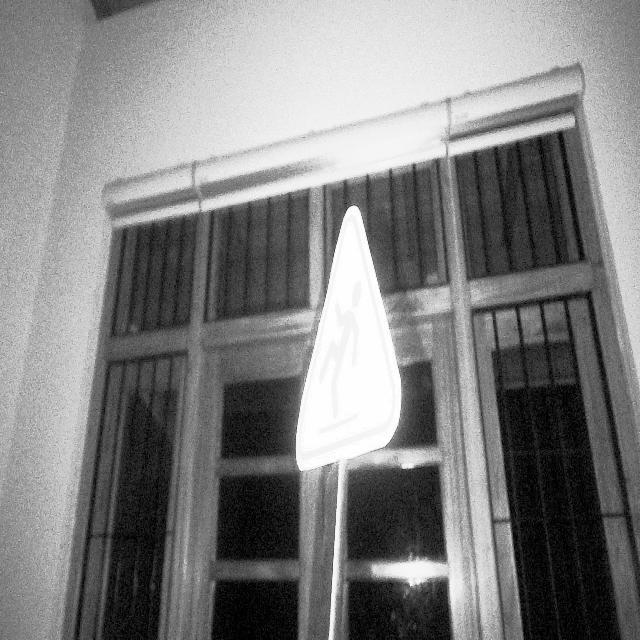Sign: (295, 204, 404, 474)
